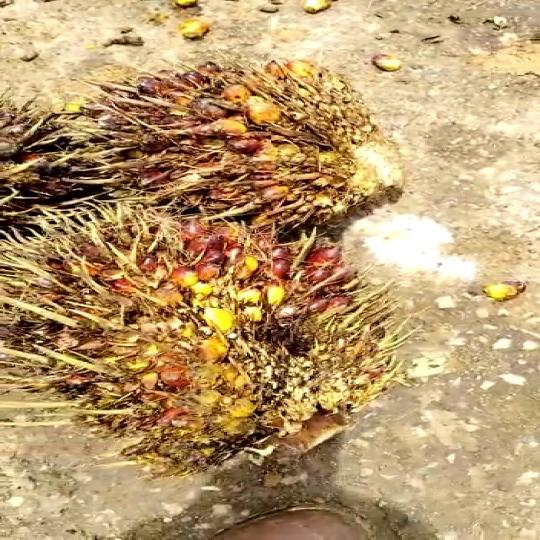masak: (0, 199, 399, 464), (66, 63, 440, 225)
